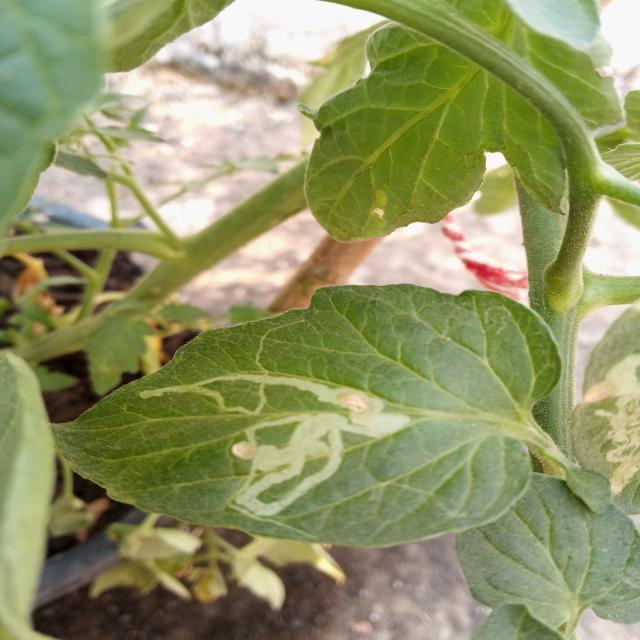Tuta absoluta: (138, 269, 412, 545)
